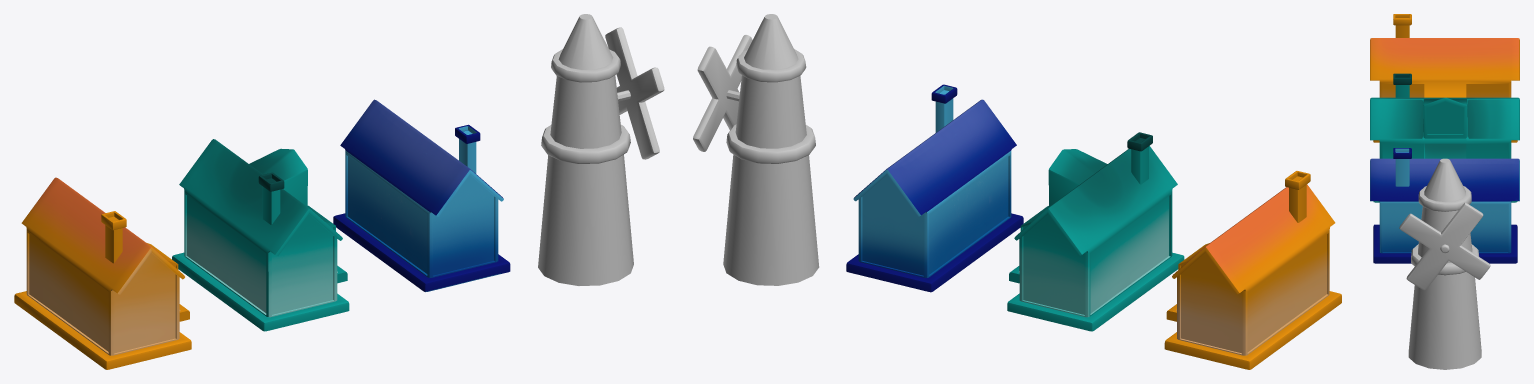
File: casa3.fbx
3 views of the same model, side by side, from view 1: azimuth 30°, elevation 25°; view 2: azimuth 150°, elevation 25°; view 3: azimuth 270°, elevation 25° (orthographic). The views are drawn at different scales.
Parts seen in each view (by area): view 1: casa3, Molino, casa1, casa2; view 2: casa3, Molino, casa1, casa2; view 3: Molino, casa1, casa3, casa2.
Part boxes in pixels (box(x1,y1,x2,y2)): casa3: box(172, 139, 349, 331); Molino: box(538, 14, 664, 285); casa1: box(333, 99, 510, 292); casa2: box(14, 177, 191, 369); casa3: box(1007, 132, 1184, 331); Molino: box(693, 14, 819, 285); casa1: box(846, 84, 1023, 292); casa2: box(1164, 171, 1341, 369); Molino: box(1399, 158, 1490, 369); casa1: box(1370, 148, 1519, 263); casa3: box(1370, 73, 1519, 202); casa2: box(1370, 14, 1519, 142).
Bounding box in the file's own units: 205 × 84.02 × 59.03.
